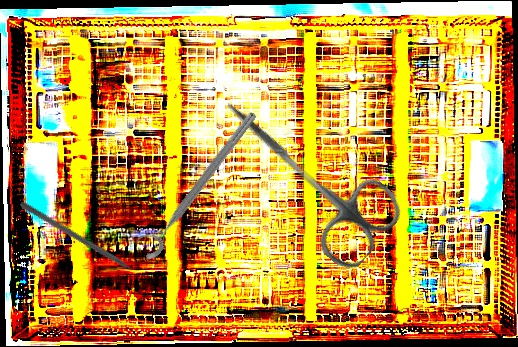Fixation Ring: (129, 102, 262, 264)
Iris Scissors: (195, 72, 410, 277)
Pusher: (18, 200, 150, 284)
